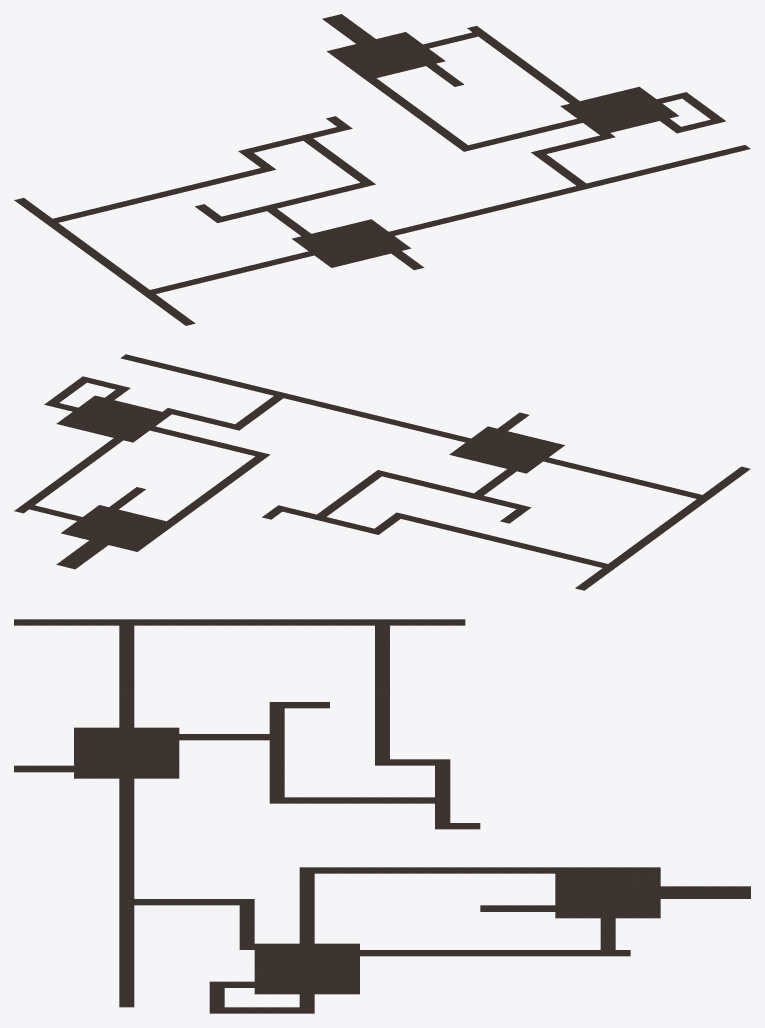
Rendered from ceiling option 2.fbx.
3 views of the same model, one above another, from view 1: azimuth 30°, elevation 25°; view 2: azimuth 150°, elevation 25°; view 3: azimuth 270°, elevation 25° (orthographic). The views are drawn at different scales.
Visible parts, largest first — view 1: Ceilng.001; view 2: Ceilng.001; view 3: Ceilng.001.
Boxes of the visible parts, x1=… form: Ceilng.001: x1=14, y1=14, x2=750, y2=325; Ceilng.001: x1=14, y1=354, x2=750, y2=590; Ceilng.001: x1=14, y1=619, x2=750, y2=1013.
Size of the model in its own units: 21224 by 0.00278 by 16774.
1 material, 1 textured.
